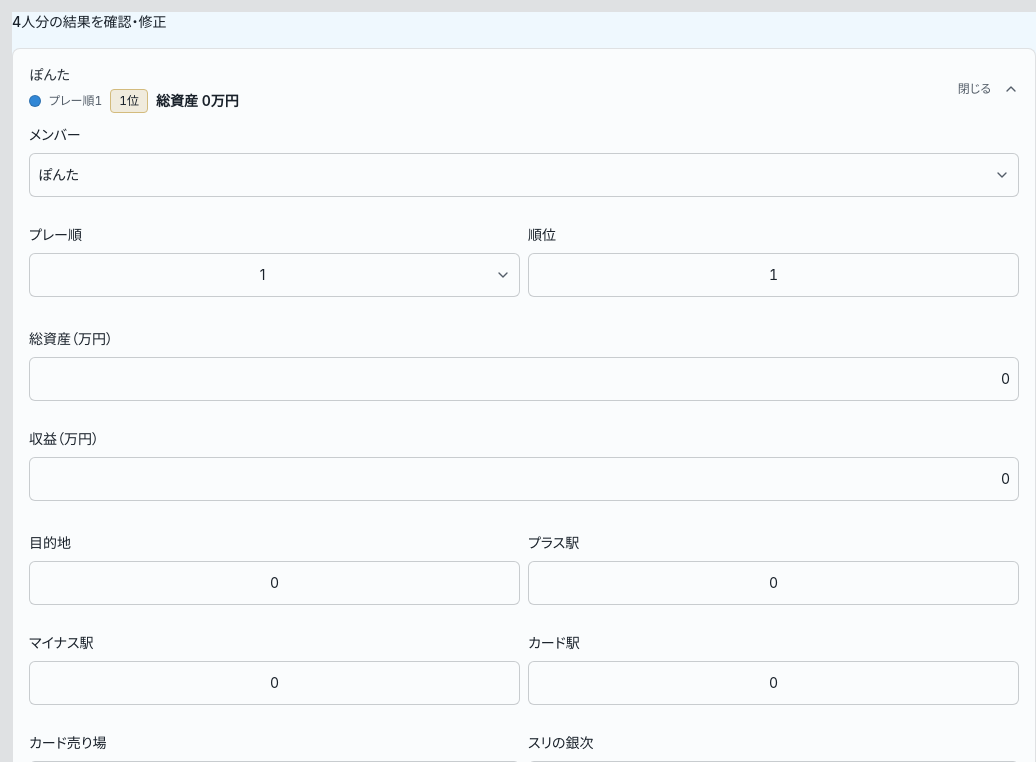
Test case: ScoreGrid › commits member changes from mobile cards
This screenshot has width=1036, height=762.
Click the dropdown named "メンバー" at (58, 174), box [29,153,1019,197]
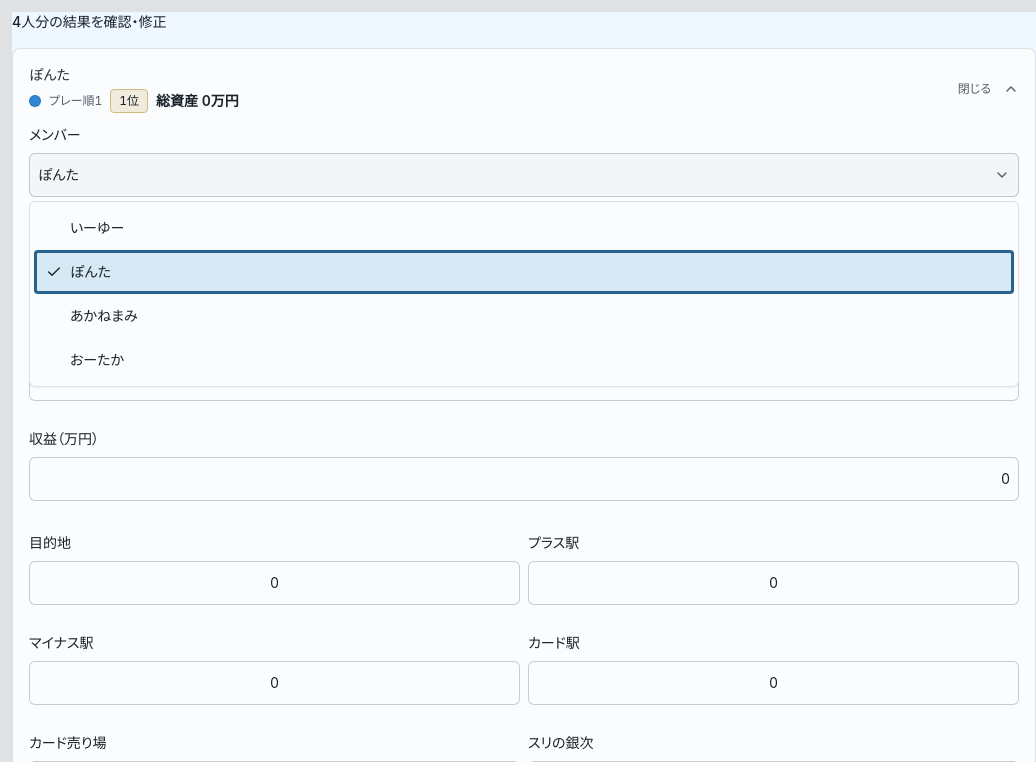
Click the option "いーゆー" at (97, 228), box [34,206,1014,250]
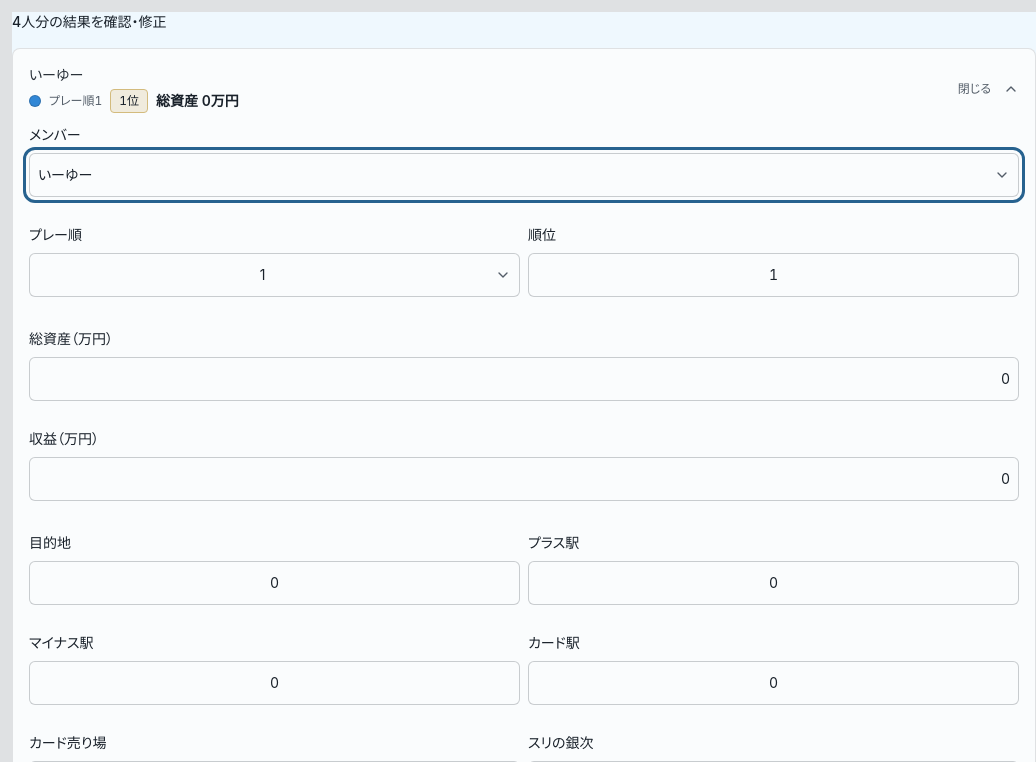
expect the dropdown named "メンバー" reads "いーゆー": met, box [29,153,1019,197]
